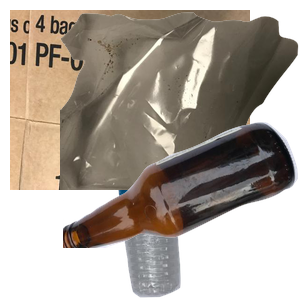cardboard: (10, 10, 250, 190)
glass: (63, 120, 300, 300)
plastic: (115, 176, 288, 300)
trash: (60, 10, 300, 190)
